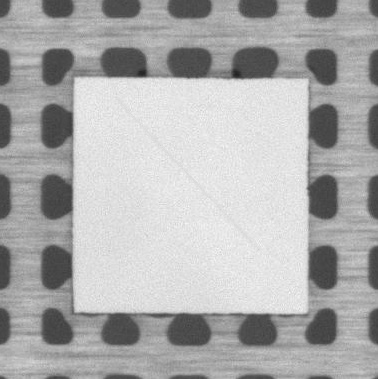DIE_CRACK: (116, 98, 257, 250)
